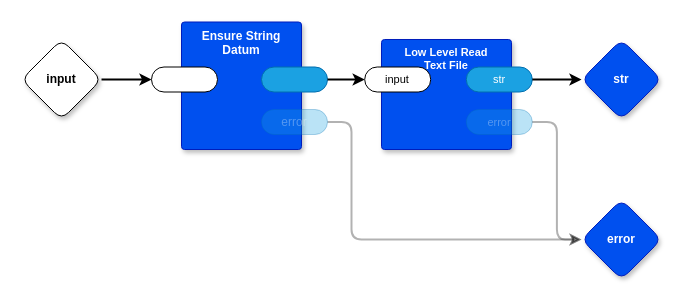
This 685x304 diagram has some shape labels left out. The centre of each missing label's shape, as x and y in pixels:
operand: the point at 184,79
output: the point at 294,79
